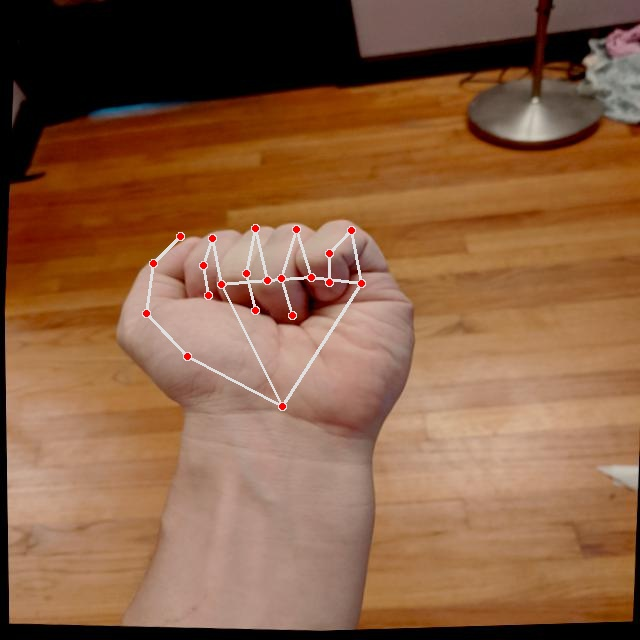A: (93, 200, 431, 457)
